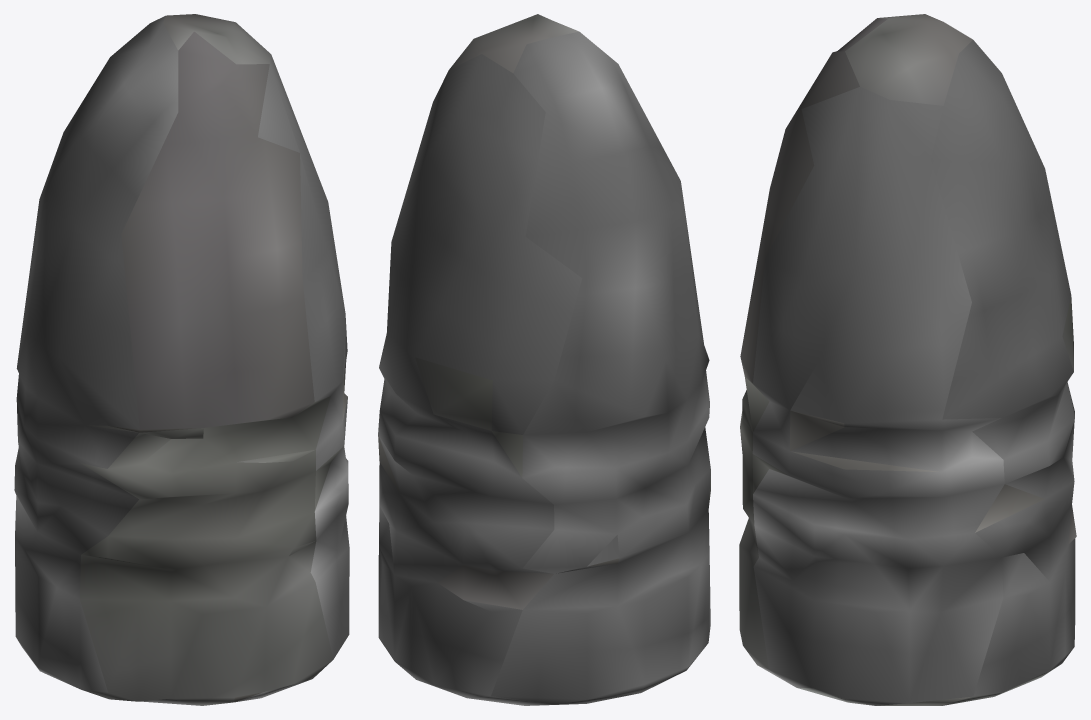
File: 76d56227-19ad-46cf-b9e8-b84f93bef133.glb
3 renders of one model, left to right at view 1: azimuth 30°, elevation 25°; view 2: azimuth 150°, elevation 25°; view 3: azimuth 270°, elevation 25°, orthographic.
Visible parts, largest first — view 1: Mesh_0.001; view 2: Mesh_0.001; view 3: Mesh_0.001.
Part boxes in pixels (box(x1,y1,x2,y2)): Mesh_0.001: box(14, 14, 349, 705); Mesh_0.001: box(378, 14, 710, 705); Mesh_0.001: box(739, 14, 1076, 705).
Size of the model in its own units: 0.00983 by 0.02 by 0.0098.
Materials: 1 (1 with a texture image).
